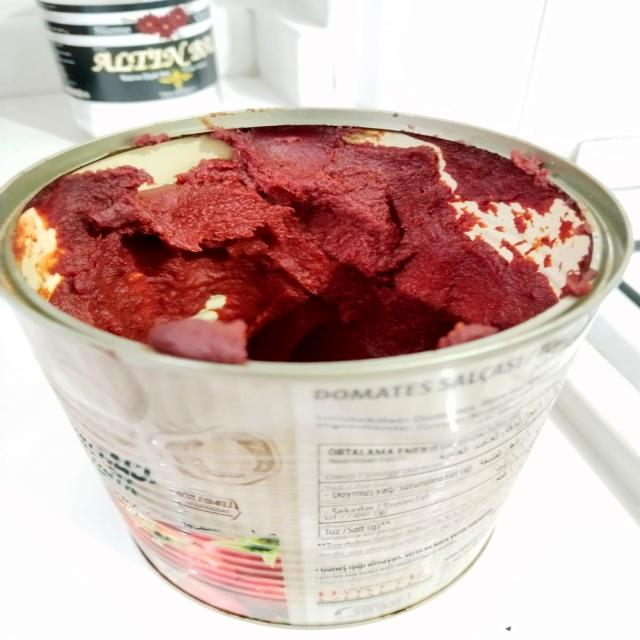tomato paste: (25, 101, 624, 610)
